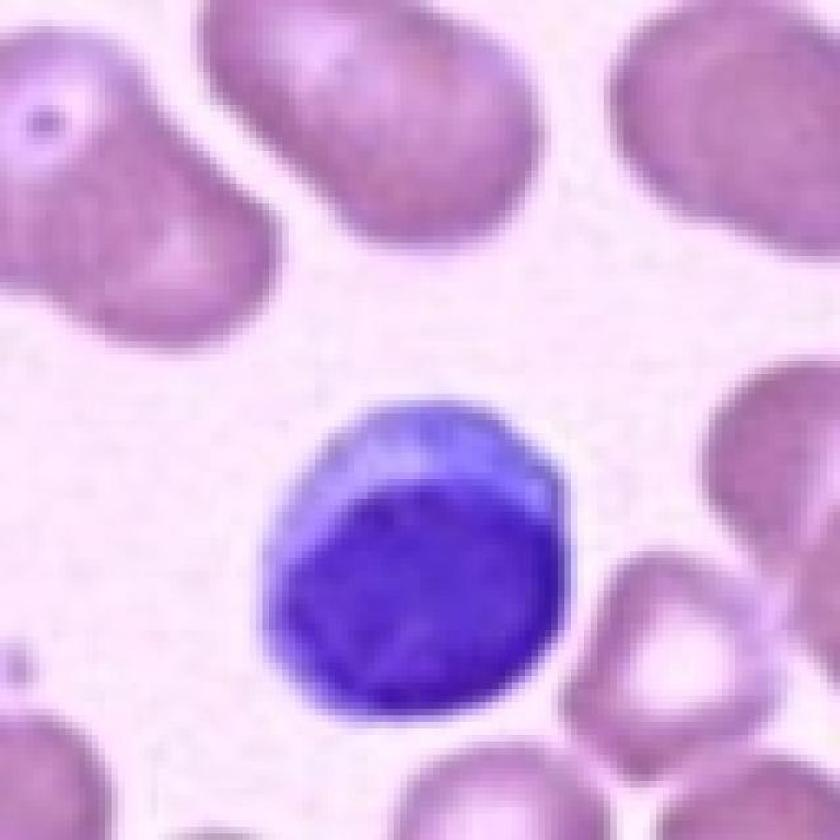lymphocyte: (252, 386, 584, 727)
